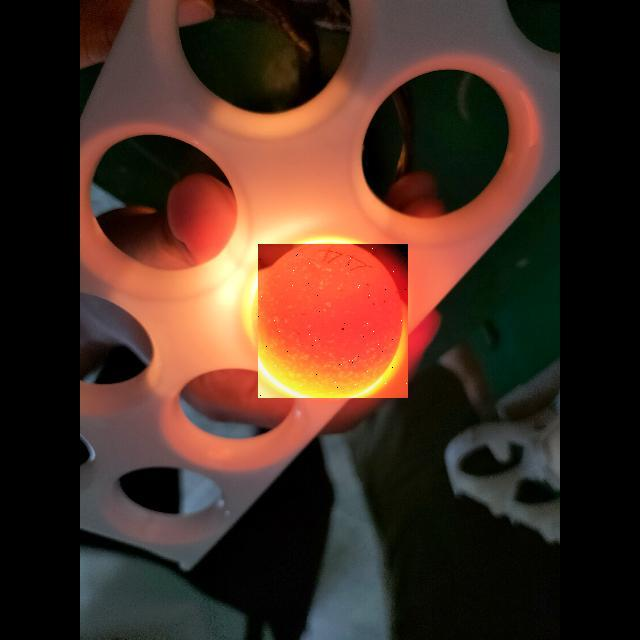Infertile: (258, 244, 408, 398)
